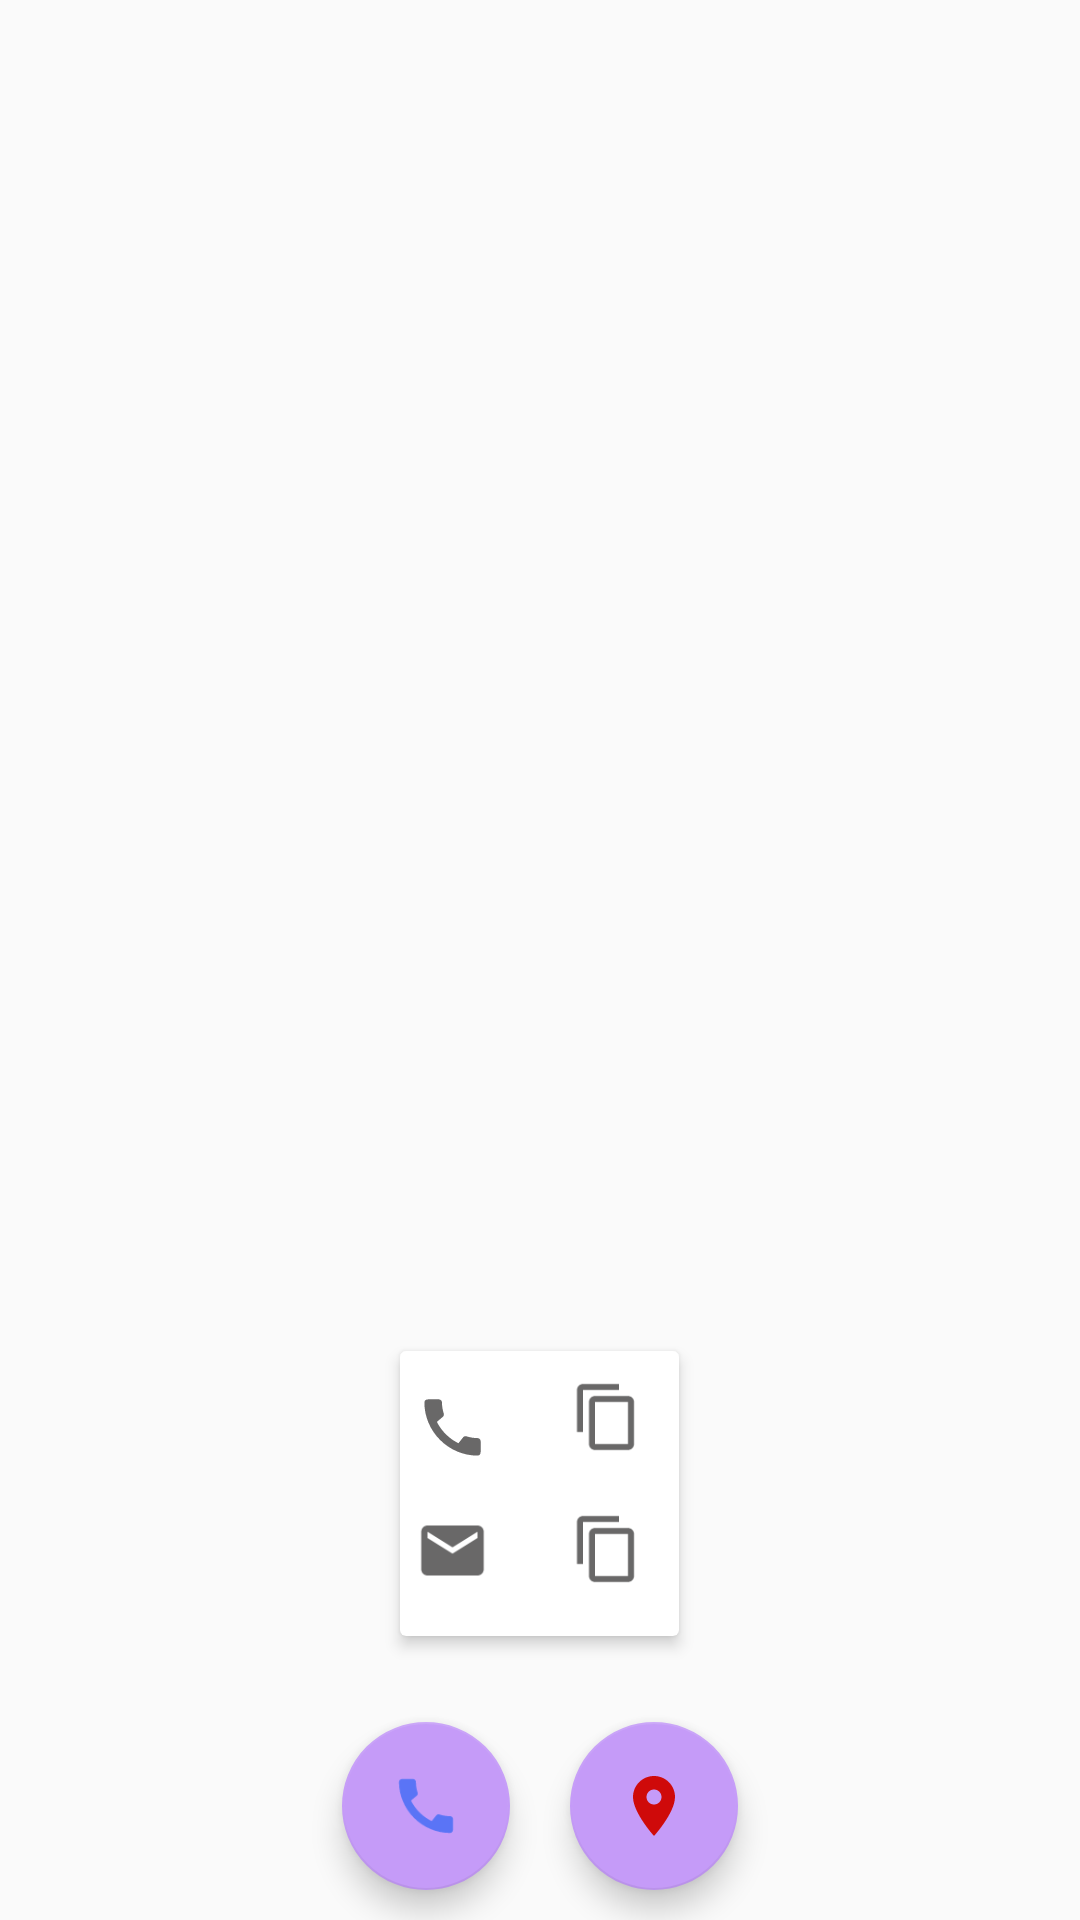

Icons on this 1080x1920 Android screen, each with the point to tap as (x=x, y=y):
call: (x=452, y=1427), (x=426, y=1806)
email: (x=452, y=1550)
location: (x=654, y=1806)
